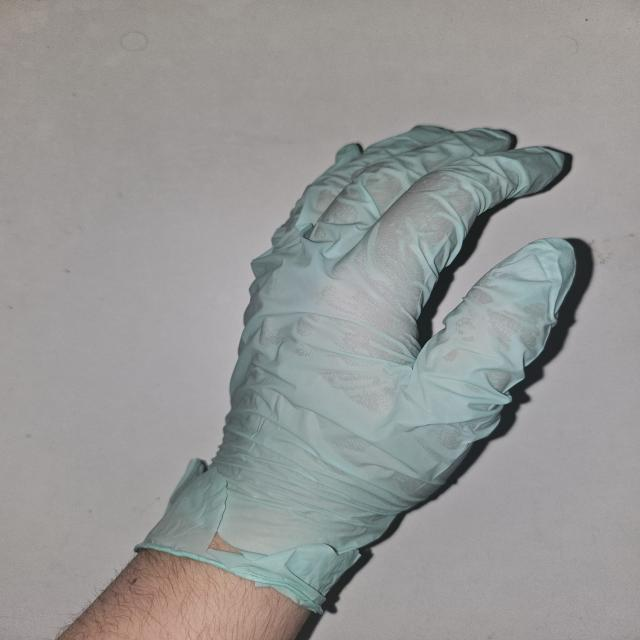gloves_damaged: (134, 124, 581, 612)
